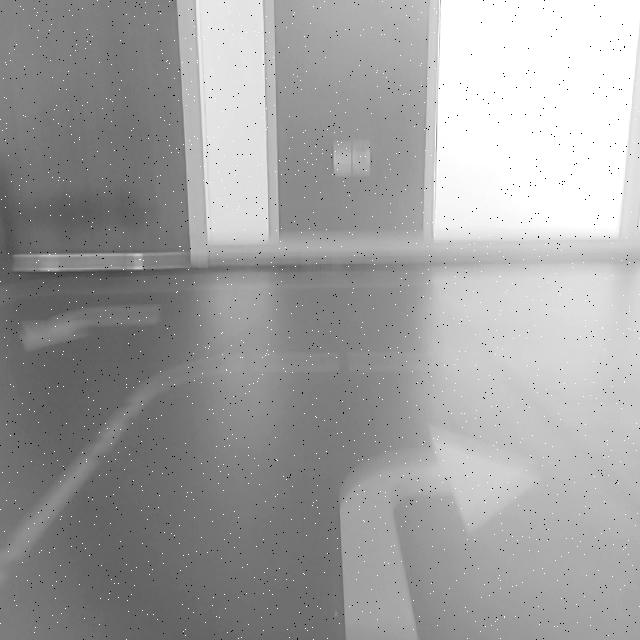left_lane: (2, 377, 157, 582)
